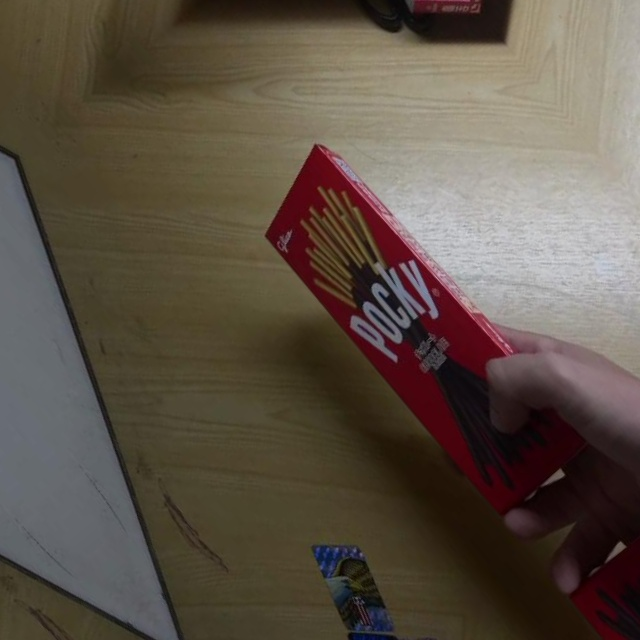Pocky: (234, 127, 591, 521)
